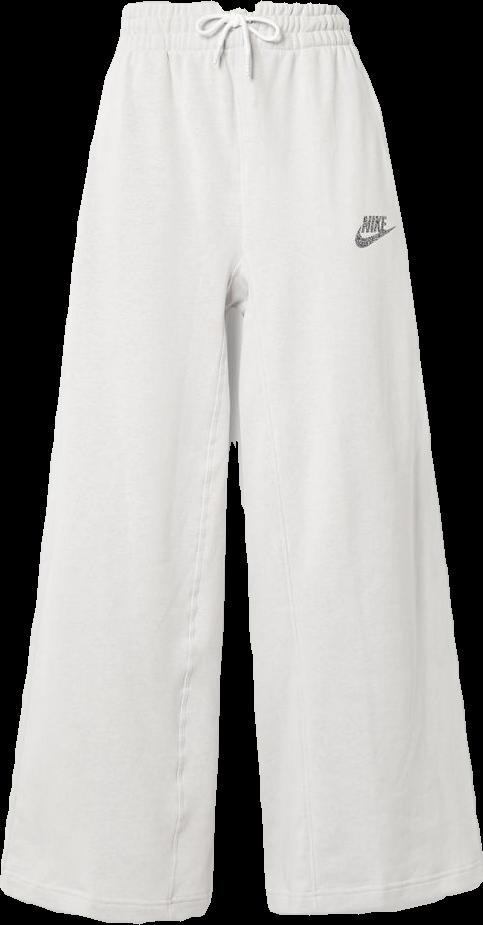Hemline: (0, 878, 210, 924), (267, 875, 482, 919)
Pantleg: (233, 2, 482, 914), (0, 2, 237, 922)
Waistline: (114, 34, 354, 53), (123, 0, 341, 16)
